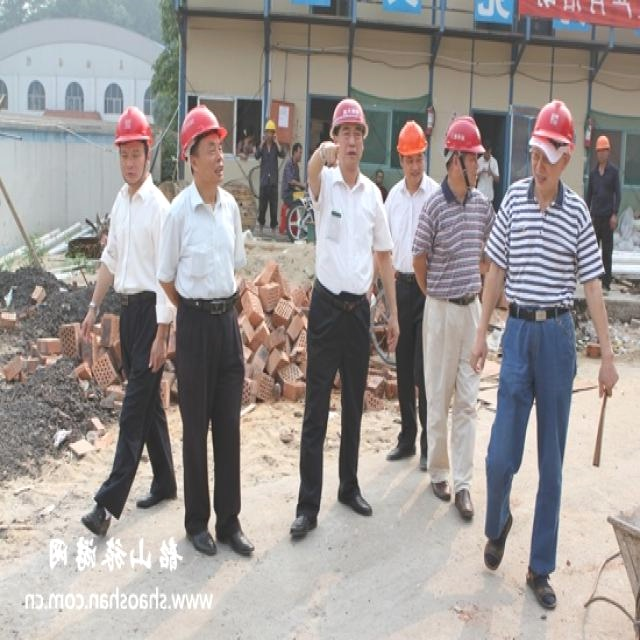Sin_Chaleco: (501, 180, 589, 313), (310, 163, 379, 293), (168, 188, 240, 307)
